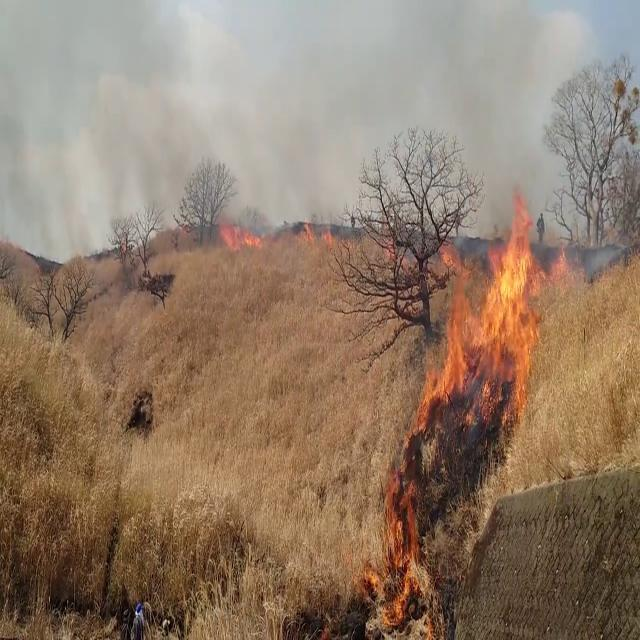Fire: (419, 193, 556, 419), (217, 214, 265, 253)
Smoke: (11, 0, 241, 252)
